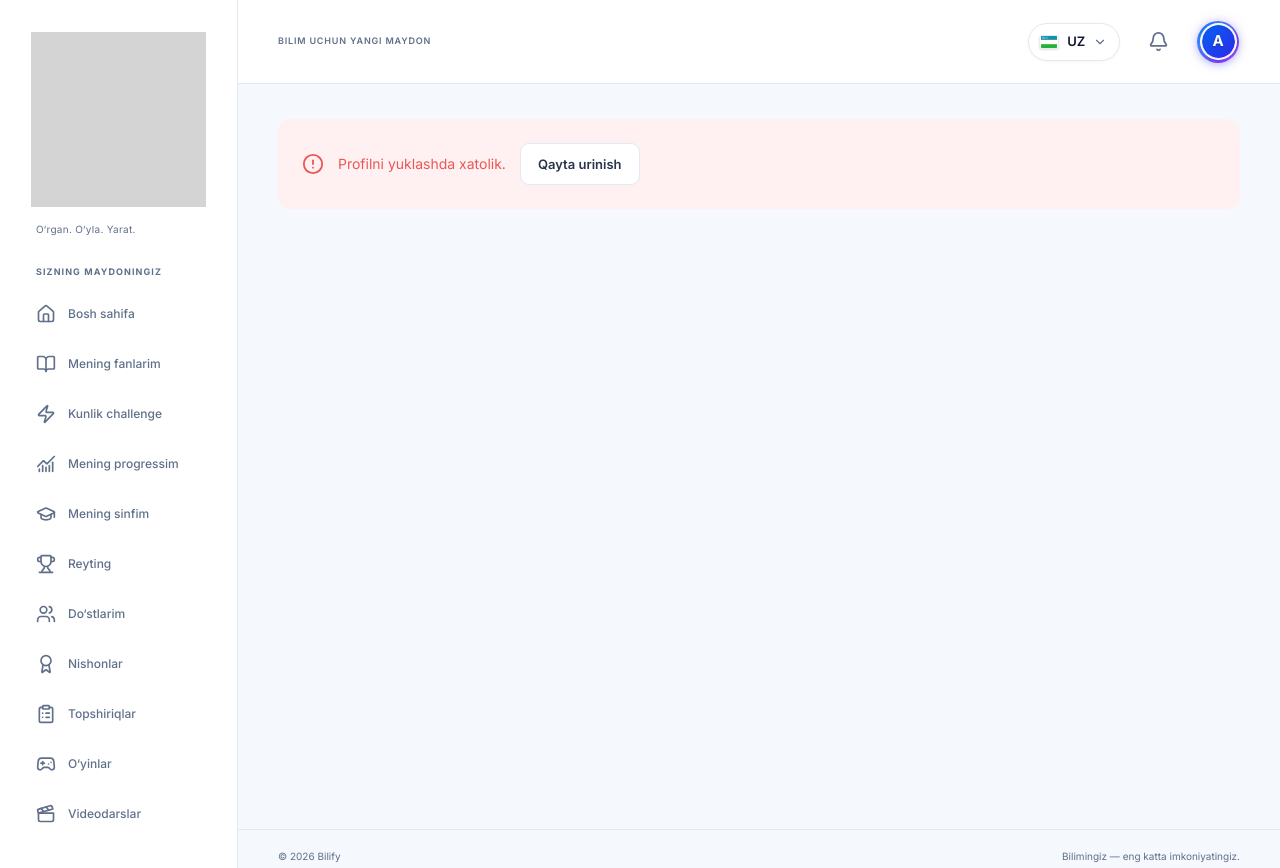
Scenario: profile page › recovers from a failed profile fetch through the retry action
Expected: the message shows "Profilni yuklashda xatolik.", [338,155,506,172]
Click the button "Qayta urinish". click: (580, 164)
box: [520,143,640,185]
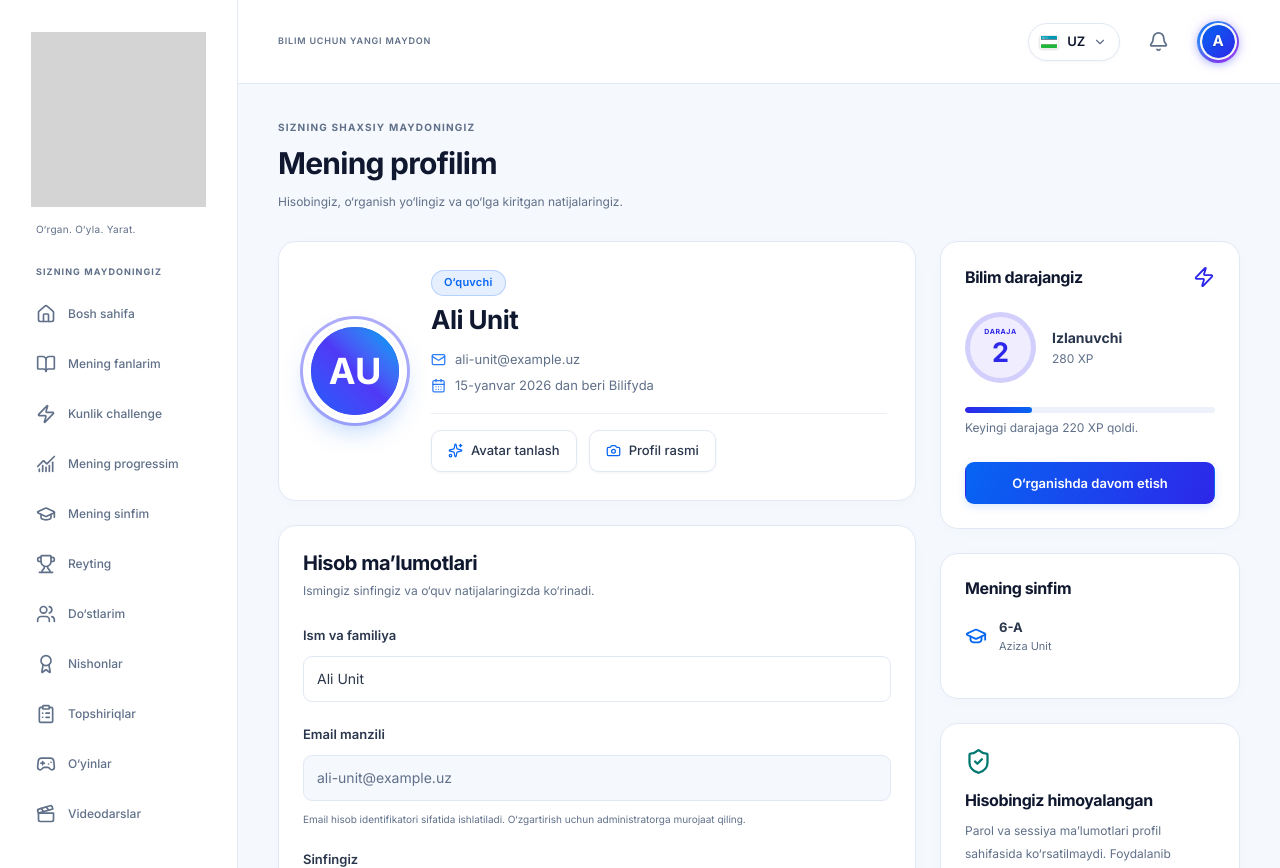
Expected: the field labelled "Ism va familiya" holds "Ali Unit", [303,656,891,702]
